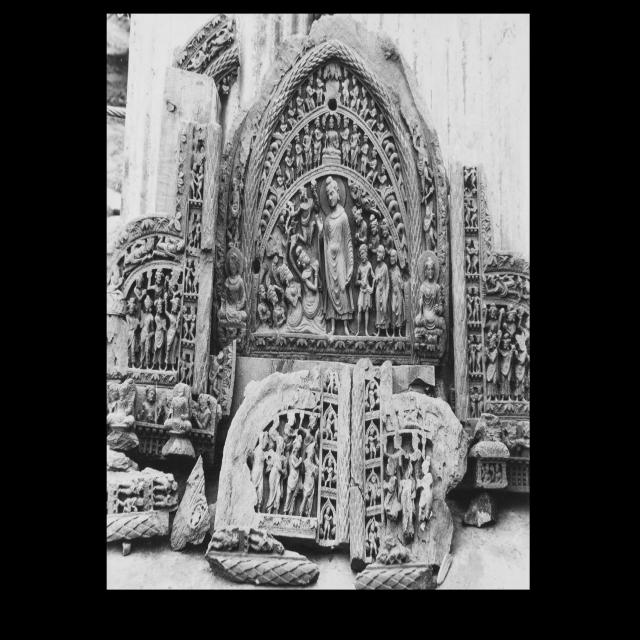buddha-standing: (316, 176, 355, 336)
